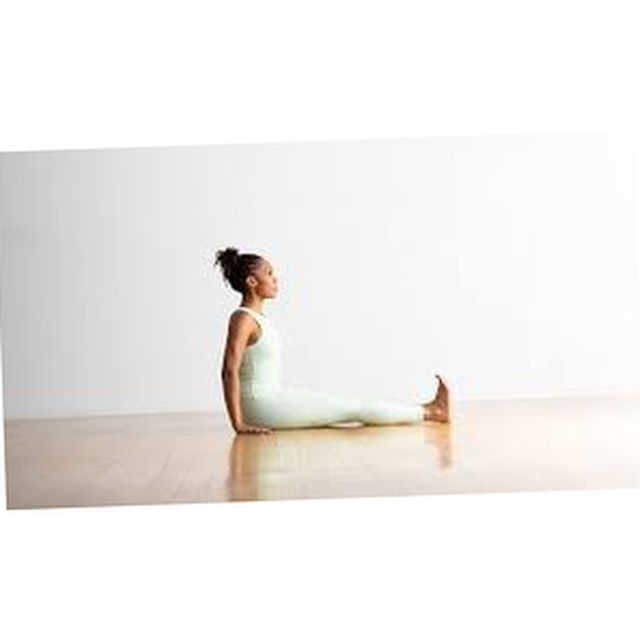Staff_Pose: (214, 246, 451, 435)
